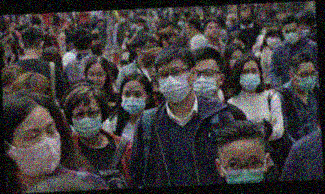with_mask: (8, 119, 63, 177), (158, 63, 193, 102), (223, 151, 266, 182), (70, 104, 103, 139), (192, 64, 220, 98), (119, 87, 147, 114), (238, 65, 262, 92), (295, 67, 317, 92), (282, 24, 300, 44), (227, 52, 243, 68), (266, 33, 282, 48), (134, 21, 145, 32)
without_mask: (86, 68, 108, 88), (146, 60, 158, 83), (205, 22, 220, 38), (183, 24, 194, 37), (239, 7, 251, 17)
